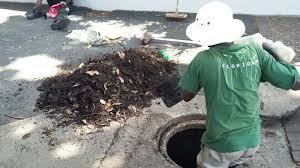Manhole-Open: (151, 109, 261, 166)
human: (176, 2, 300, 167)
